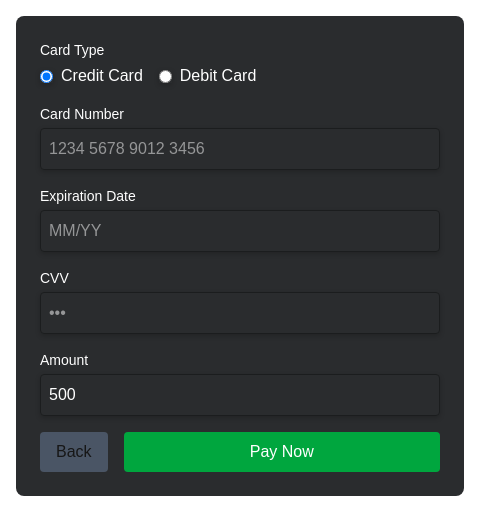
Test case: Payment Component › validates and formats card number
Type "1234567890123456" into the field with placeholder "1234 5678 9012 3456" at {"x": 240, "y": 149}, box [40,128,440,170]
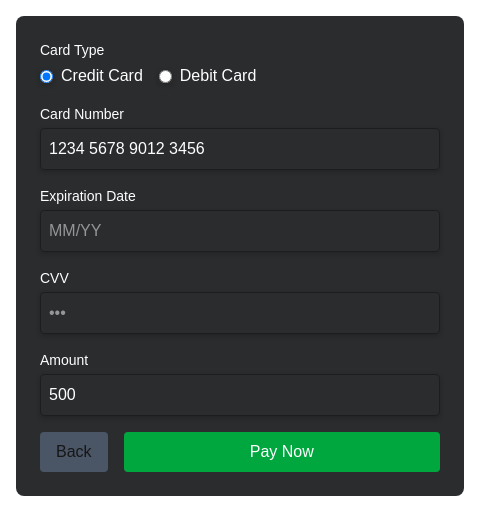
Expected: the field with placeholder "1234 5678 9012 3456" holds "1234 5678 9012 3456", [40,128,440,170]
